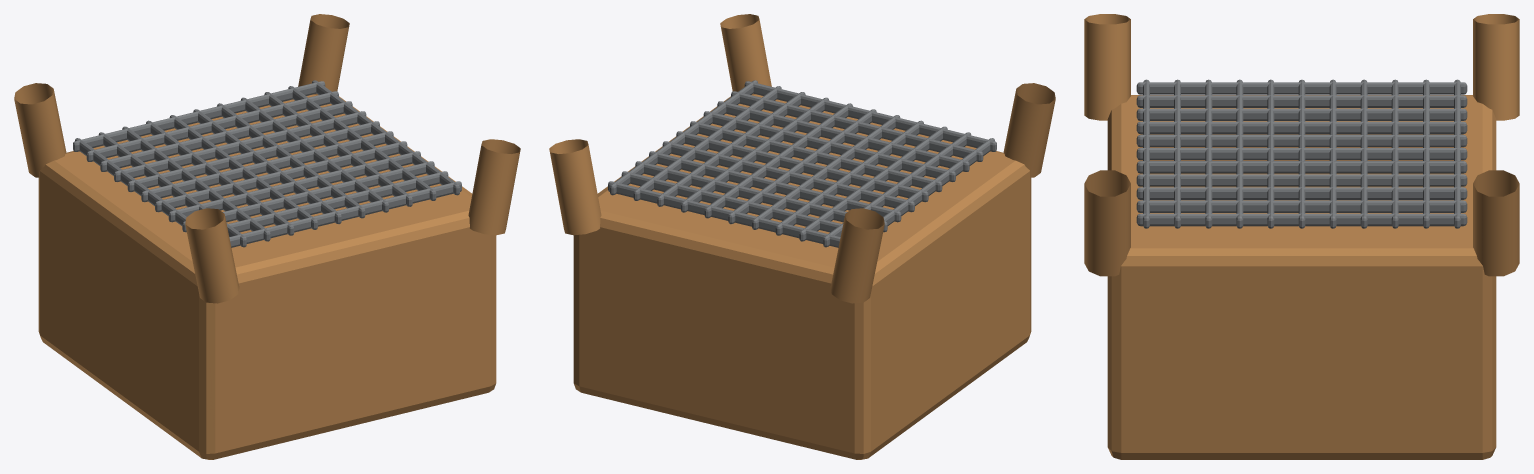
File: altar.glb
The picture shows the model from 3 angles, left to right: view 1: azimuth 30°, elevation 25°; view 2: azimuth 150°, elevation 25°; view 3: azimuth 270°, elevation 25°; orthographic projection. The views are drawn at different scales.
Visible parts, largest first — view 1: Altar, Chifre do altar, Chifre do altar.002, Chifre do altar.001, Chifre do altar.003, Grade.001, Grade.019, Grade.013, Grade.021, Grade.011, Grade.009, Grade.015 (+15 smaller); view 2: Altar, Chifre do altar.001, Chifre do altar.003, Chifre do altar, Chifre do altar.002, Grade.021, Grade.003, Grade.009, Grade.001, Grade.011, Grade.007, Grade.013 (+15 smaller); view 3: Altar, Chifre do altar, Chifre do altar.001, Chifre do altar.002, Chifre do altar.003, Grade.020, Grade.006, Grade.008, Grade.004, Grade.018, Grade.002, Grade.016 (+15 smaller).
Part boxes in pixels (bbox=[...]): Altar: bbox=[38, 94, 496, 459]; Chifre do altar: bbox=[185, 208, 239, 303]; Chifre do altar.002: bbox=[468, 139, 520, 235]; Chifre do altar.001: bbox=[14, 83, 66, 177]; Chifre do altar.003: bbox=[298, 14, 349, 94]; Grade.001: bbox=[229, 181, 461, 247]; Grade.019: bbox=[86, 91, 338, 161]; Grade.013: bbox=[127, 121, 379, 192]; Grade.021: bbox=[73, 81, 325, 151]; Grade.011: bbox=[141, 131, 393, 202]; Grade.009: bbox=[155, 141, 407, 212]; Grade.015: bbox=[114, 111, 366, 182]; Altar: bbox=[573, 94, 1031, 459]; Chifre do altar.001: bbox=[830, 208, 884, 303]; Chifre do altar.003: bbox=[549, 139, 601, 235]; Chifre do altar: bbox=[1003, 83, 1055, 177]; Chifre do altar.002: bbox=[720, 14, 771, 94]; Grade.021: bbox=[608, 181, 840, 247]; Grade.003: bbox=[731, 91, 983, 161]; Grade.009: bbox=[690, 121, 942, 192]; Grade.001: bbox=[744, 81, 996, 151]; Grade.011: bbox=[676, 131, 928, 202]; Grade.007: bbox=[703, 111, 955, 182]; Grade.013: bbox=[662, 141, 914, 212]; Altar: bbox=[1107, 95, 1496, 459]; Chifre do altar: bbox=[1084, 14, 1130, 120]; Chifre do altar.001: bbox=[1473, 14, 1519, 120]; Chifre do altar.002: bbox=[1084, 170, 1130, 276]; Chifre do altar.003: bbox=[1473, 170, 1519, 276]; Grade.020: bbox=[1136, 213, 1467, 226]; Grade.006: bbox=[1136, 121, 1467, 134]; Grade.008: bbox=[1136, 134, 1467, 147]; Grade.004: bbox=[1136, 108, 1467, 120]; Grade.018: bbox=[1136, 200, 1467, 212]; Grade.002: bbox=[1136, 95, 1467, 107]; Grade.016: bbox=[1136, 187, 1467, 199].
Bounding box in the file's own units: 1.11 × 0.8112 × 1.12.
